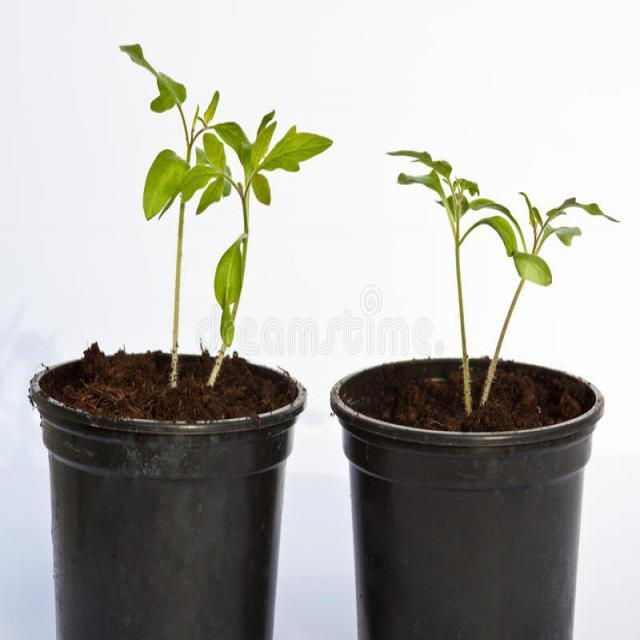tomato: (121, 43, 332, 387), (390, 150, 621, 415)
